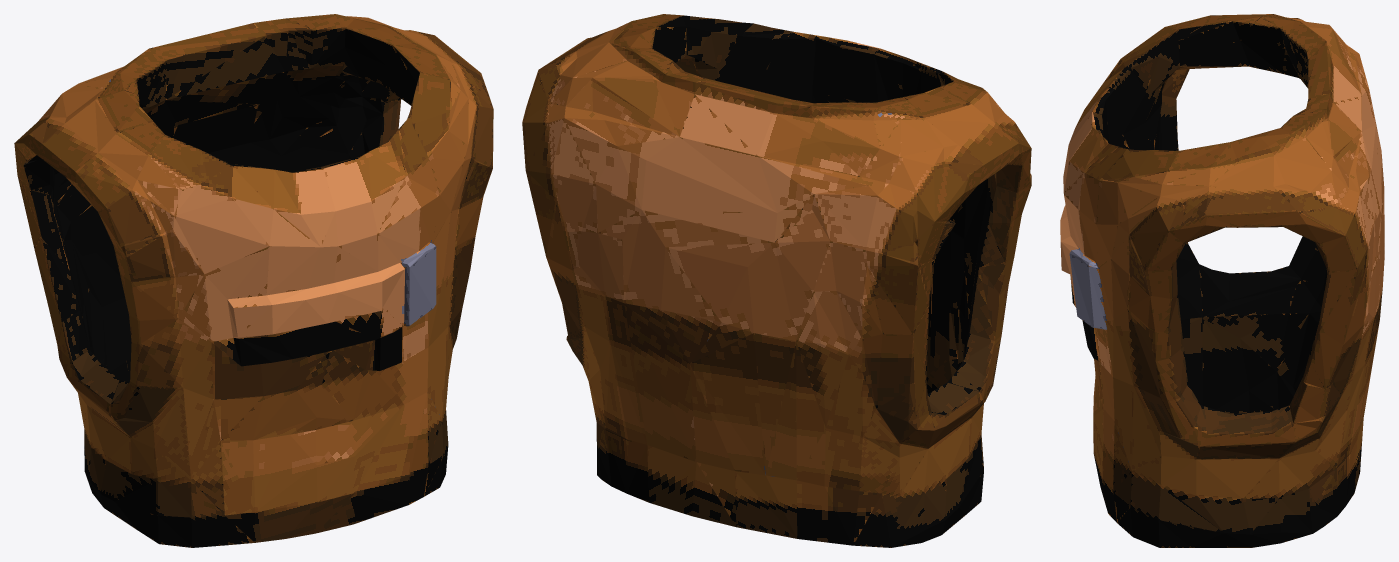
3 views of the same model, side by side, from view 1: azimuth 30°, elevation 25°; view 2: azimuth 150°, elevation 25°; view 3: azimuth 270°, elevation 25° (orthographic). The views are drawn at different scales.
Visible parts, largest first — view 1: OBJ020; view 2: OBJ020; view 3: OBJ020.
Boxes of the visible parts, x1=… form: OBJ020: x1=14, y1=14, x2=493, y2=547; OBJ020: x1=522, y1=14, x2=1031, y2=547; OBJ020: x1=1060, y1=14, x2=1384, y2=547.
Size of the model in its own units: 0.2427 by 0.2373 by 0.1716.
Materials: 1 (1 with a texture image).
